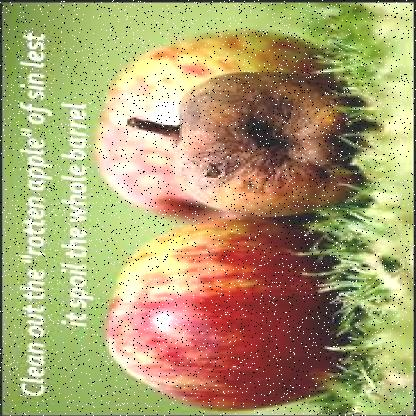apple: (111, 220, 323, 402)
damaged_apple: (171, 70, 356, 216)
